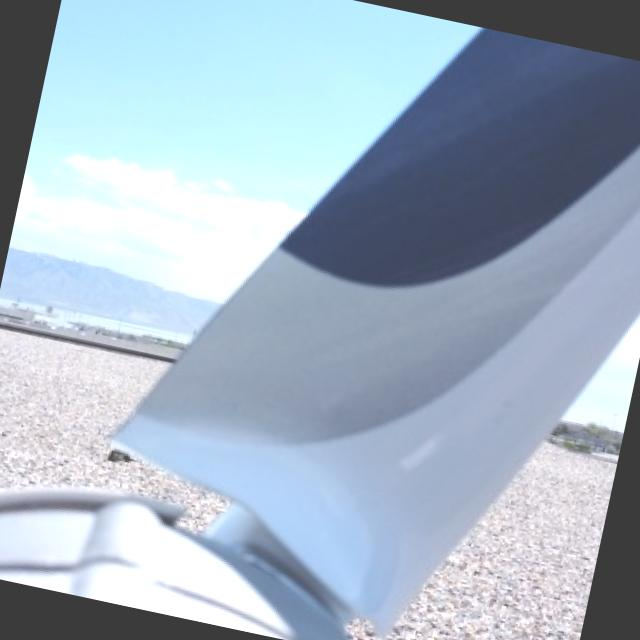healthy: (26, 501, 159, 606)
